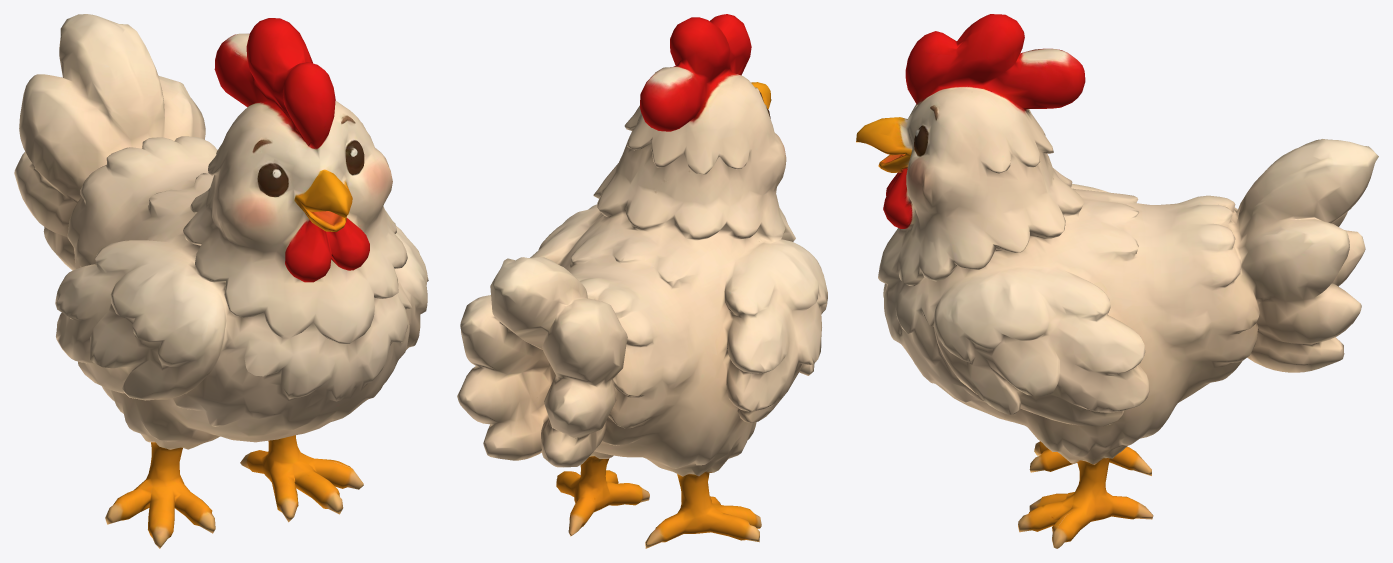
Rendered from chicken.glb.
3 renders of one model, left to right at view 1: azimuth 30°, elevation 25°; view 2: azimuth 150°, elevation 25°; view 3: azimuth 270°, elevation 25°, orthographic. The views are drawn at different scales.
Visible parts, largest first — view 1: tripo_node_eb651adf-d430-4d57-8d6c-d605c84ca238; view 2: tripo_node_eb651adf-d430-4d57-8d6c-d605c84ca238; view 3: tripo_node_eb651adf-d430-4d57-8d6c-d605c84ca238.
Part boxes in pixels (x1,y1,x2,y2): tripo_node_eb651adf-d430-4d57-8d6c-d605c84ca238: [14, 14, 428, 548]; tripo_node_eb651adf-d430-4d57-8d6c-d605c84ca238: [457, 14, 827, 548]; tripo_node_eb651adf-d430-4d57-8d6c-d605c84ca238: [856, 14, 1378, 548].
Size of the model in its own units: 0.6268 by 0.9803 by 0.9626.
Materials: 1 (1 with a texture image).
